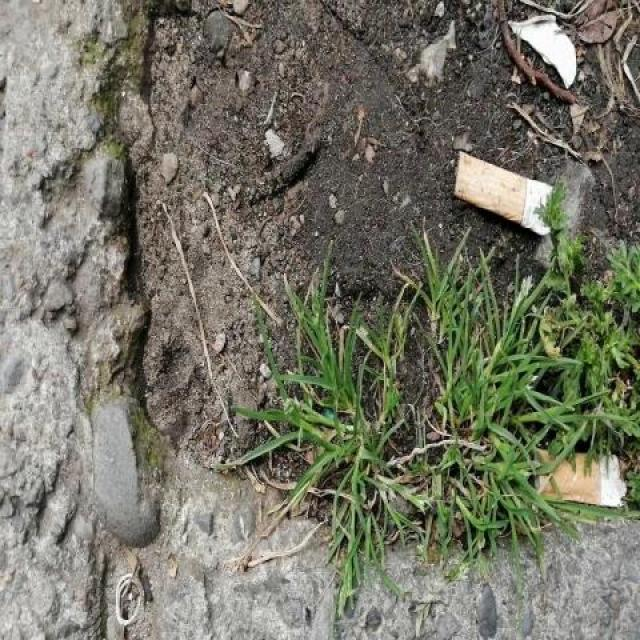non-organic waste: (450, 146, 562, 238), (529, 440, 635, 521)
